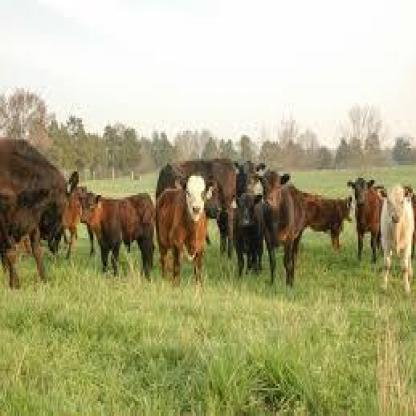cow: (0, 140, 77, 288), (79, 188, 164, 276), (152, 174, 214, 287), (258, 168, 304, 288), (377, 184, 416, 296), (293, 191, 354, 249), (349, 176, 380, 264), (233, 191, 262, 274)
